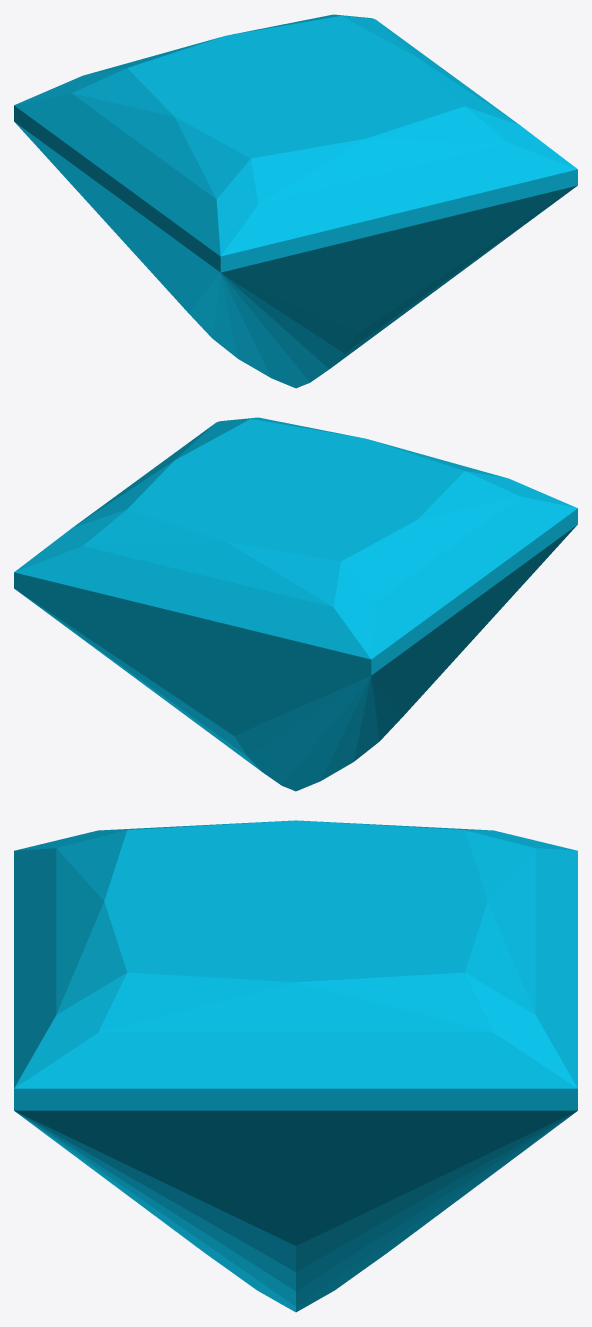
Rendered from Head_Hidden Halo_Princess_0.75ct_Diamond.glb.
3 views of the same model, one above another, from view 1: azimuth 30°, elevation 25°; view 2: azimuth 150°, elevation 25°; view 3: azimuth 270°, elevation 25° (orthographic). The views are drawn at different scales.
Bounding box in the file's own units: 0.00495 × 0.00399 × 0.00496.
